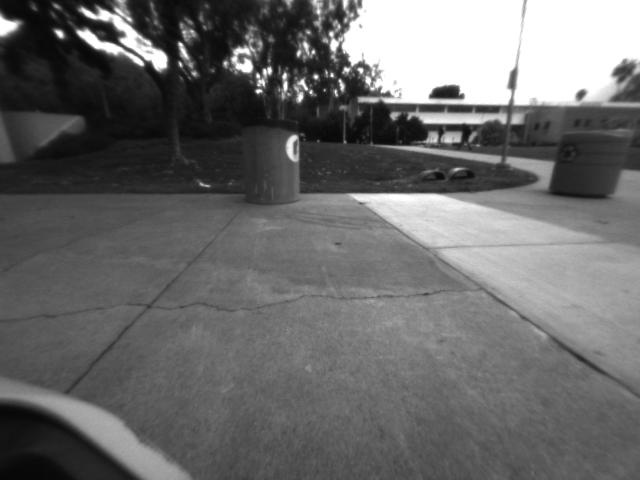trashcan: (542, 107, 638, 211), (230, 105, 315, 212)
